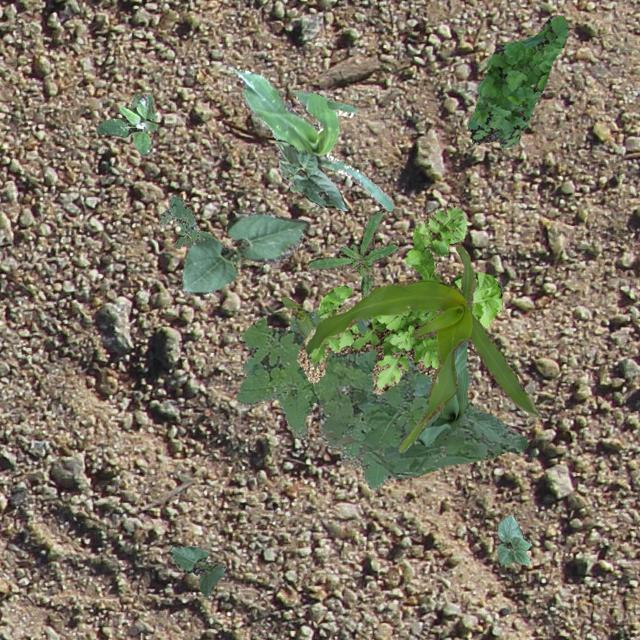crop: (304, 244, 538, 452), (234, 68, 392, 210), (180, 210, 308, 294), (274, 138, 348, 210), (418, 340, 468, 444), (170, 544, 224, 598), (496, 514, 530, 566), (280, 296, 312, 336)
weed: (235, 308, 528, 488), (296, 202, 502, 394), (467, 14, 568, 148), (308, 210, 398, 296), (96, 92, 156, 154), (158, 195, 215, 248), (422, 280, 502, 316)
